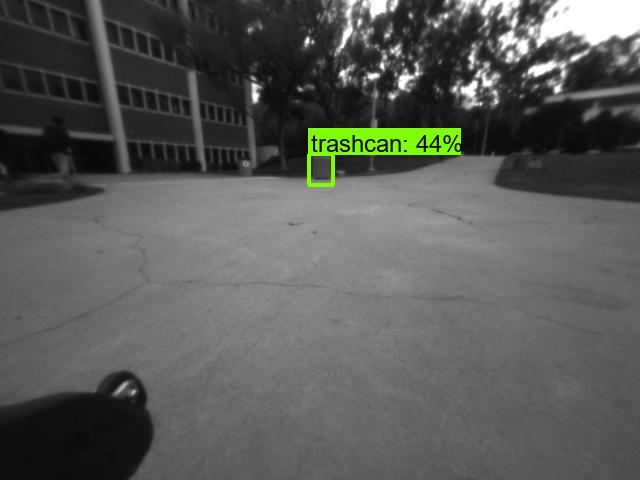trashcan: (242, 158, 264, 181), (310, 157, 331, 177)
